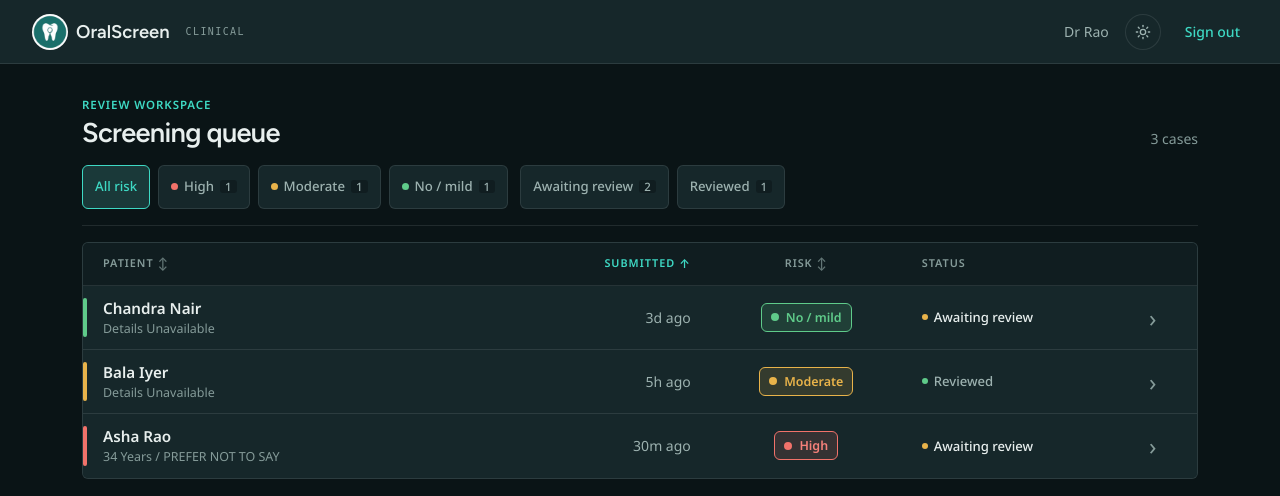
filtering › narrows to a single risk tier and shows the filtered count
This screenshot has width=1280, height=496.
Click the button "High 1": {"x": 204, "y": 186} [158,164,250,208]
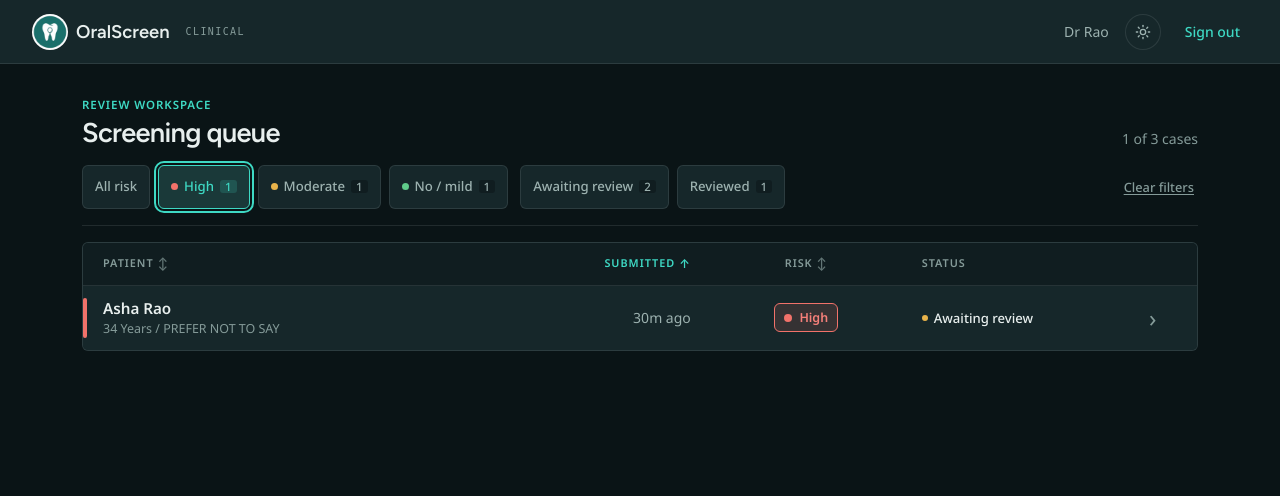
Result: the text "1 of 3 case" is shown at [1122,128,1198,148]
